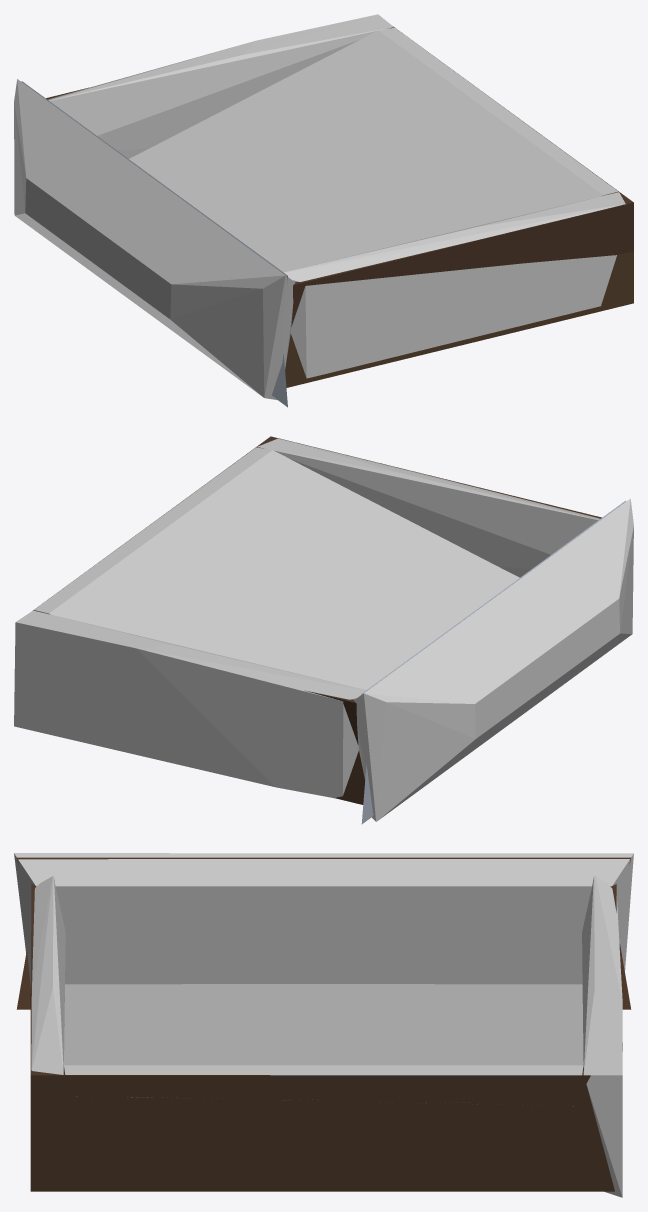
Rendered from SM_Prop_Drawer_01_Drawer_01.fbx.
3 renders of one model, top to bottom at view 1: azimuth 30°, elevation 25°; view 2: azimuth 150°, elevation 25°; view 3: azimuth 270°, elevation 25°, orthographic. The views are drawn at different scales.
Visible parts, largest first — view 1: SM_Prop_Drawer_01_Drawer_01_ConvexHulls, SM_Prop_Drawer_01_Drawer_01; view 2: SM_Prop_Drawer_01_Drawer_01_ConvexHulls, SM_Prop_Drawer_01_Drawer_01; view 3: SM_Prop_Drawer_01_Drawer_01_ConvexHulls, SM_Prop_Drawer_01_Drawer_01.
Boxes of the visible parts, left/top/right/bottom form: SM_Prop_Drawer_01_Drawer_01_ConvexHulls: left=14, top=14, right=625, bottom=400; SM_Prop_Drawer_01_Drawer_01: left=21, top=26, right=633, bottom=407; SM_Prop_Drawer_01_Drawer_01_ConvexHulls: left=14, top=438, right=633, bottom=821; SM_Prop_Drawer_01_Drawer_01: left=33, top=436, right=625, bottom=824; SM_Prop_Drawer_01_Drawer_01_ConvexHulls: left=14, top=853, right=633, bottom=1197; SM_Prop_Drawer_01_Drawer_01: left=16, top=857, right=631, bottom=1191.
Size of the model in its own units: 60.63 by 68.8 by 18.92.
2 materials, 1 textured.
